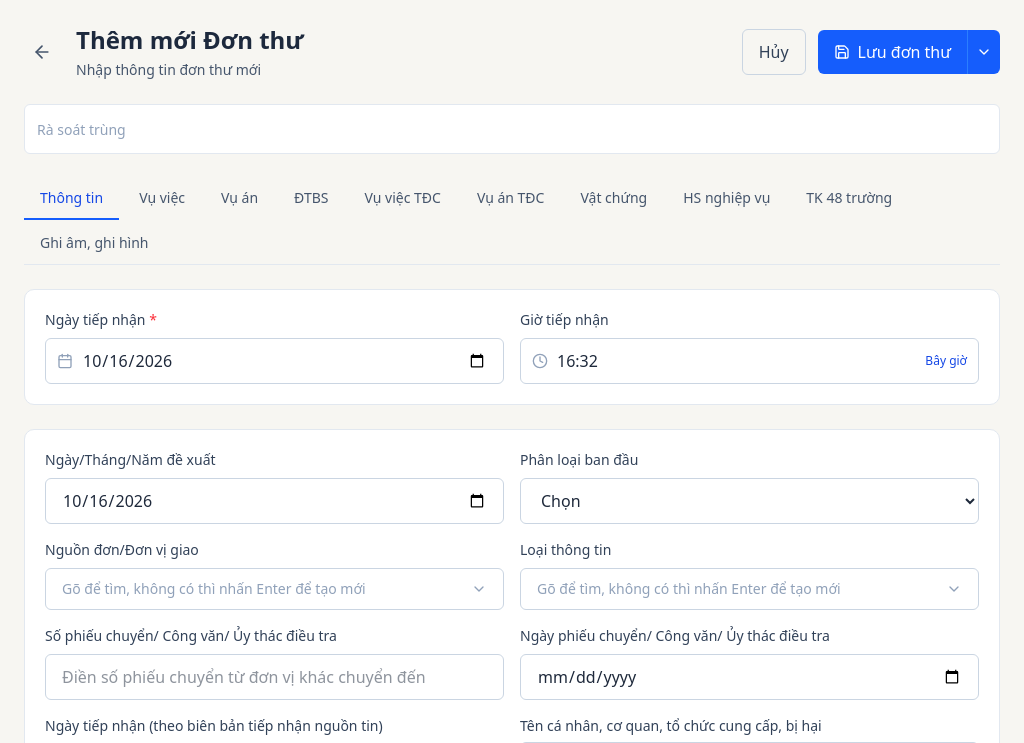
Form Đơn thư — ô "Nguồn đơn/Đơn vị giao" chọn từ danh mục › mời TẠO MỚI khi gõ nguồn chưa có — đúng khuôn "Loại thông tin"
Click the dropdown with test id "field-nguonDon-trigger" at (274, 589), box [45,568,504,610]
(page scrolled)
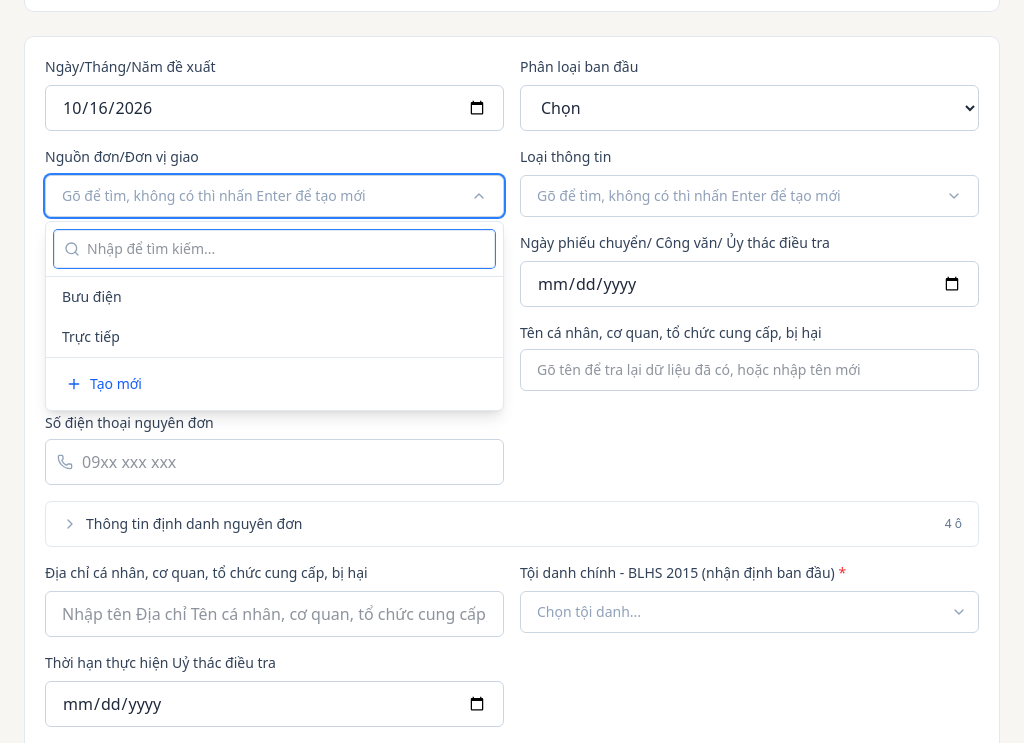
Expected: the button with test id "field-nguonDon-create-new" is shown, [54,366,495,402]
